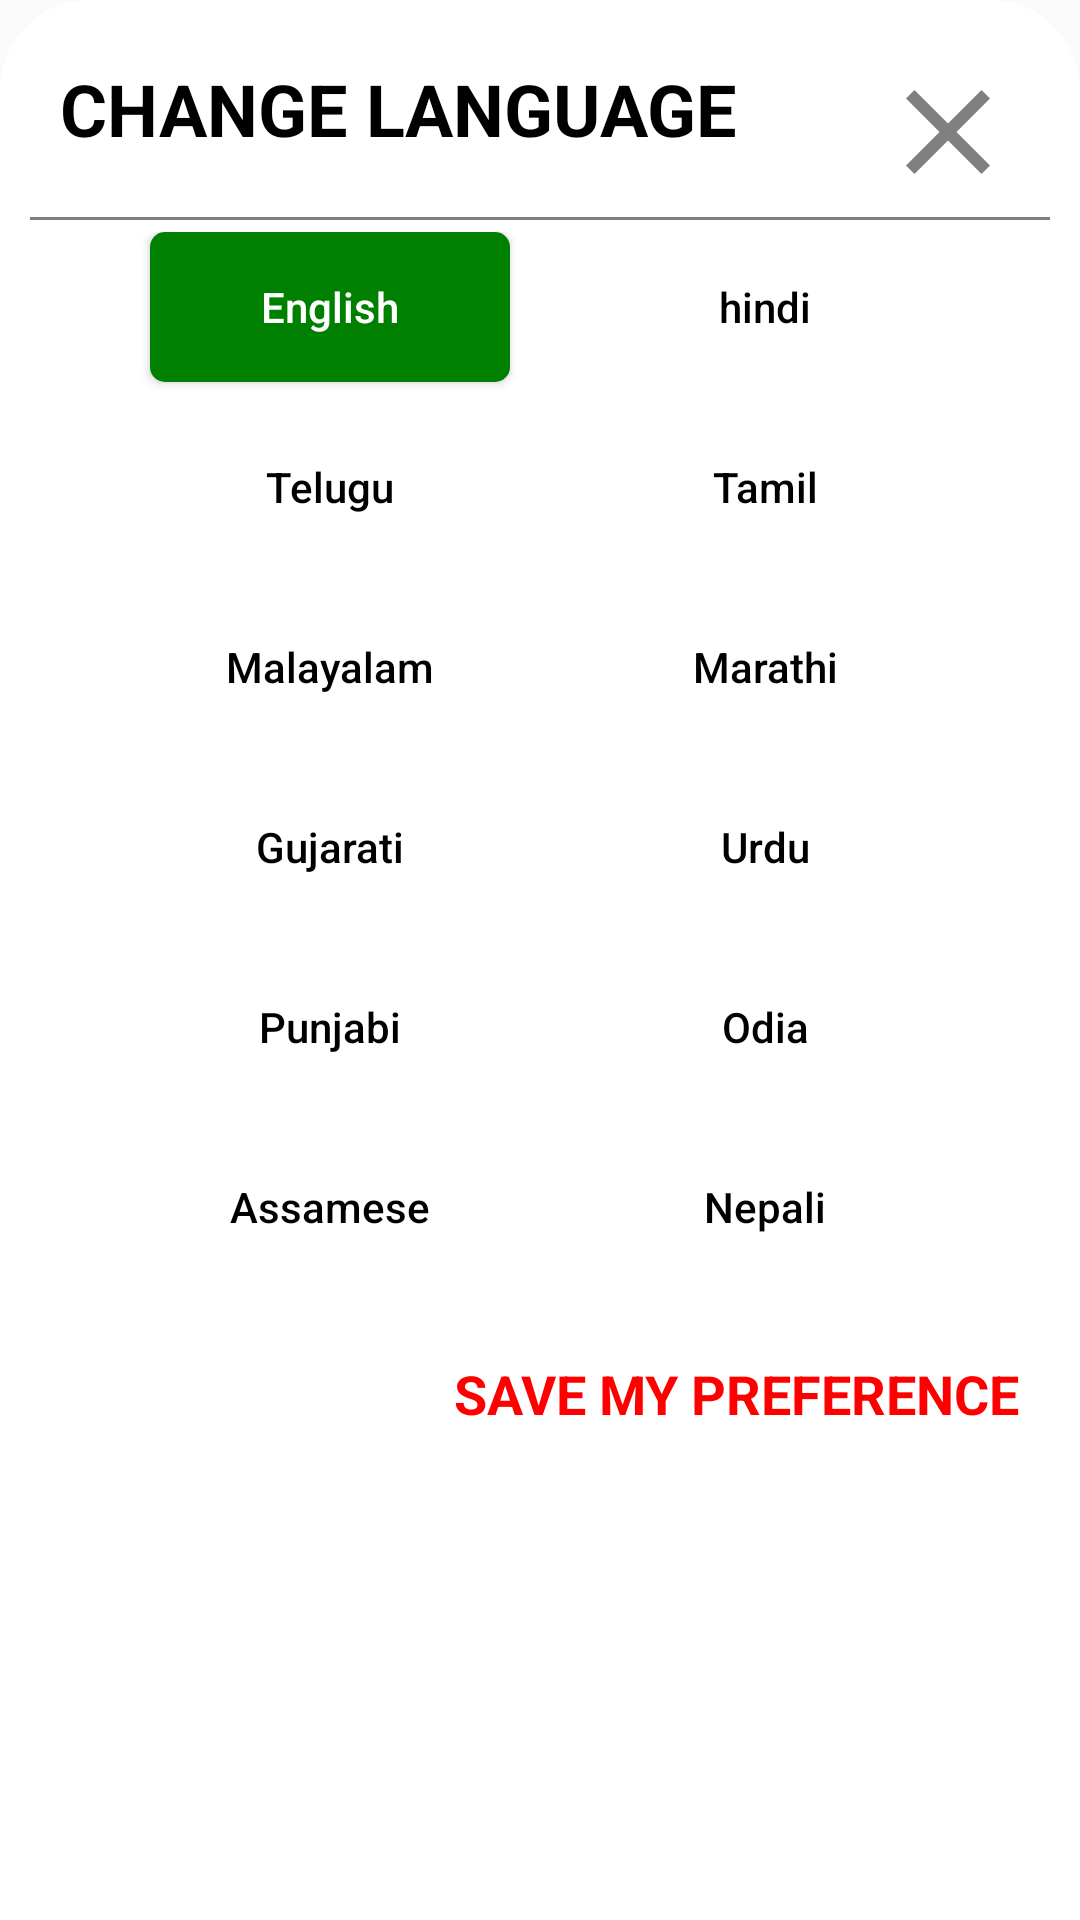

Point at icon controls on the screen. Image size 1080px x 1920px, points as point (x, y).
close: point (948, 132)
